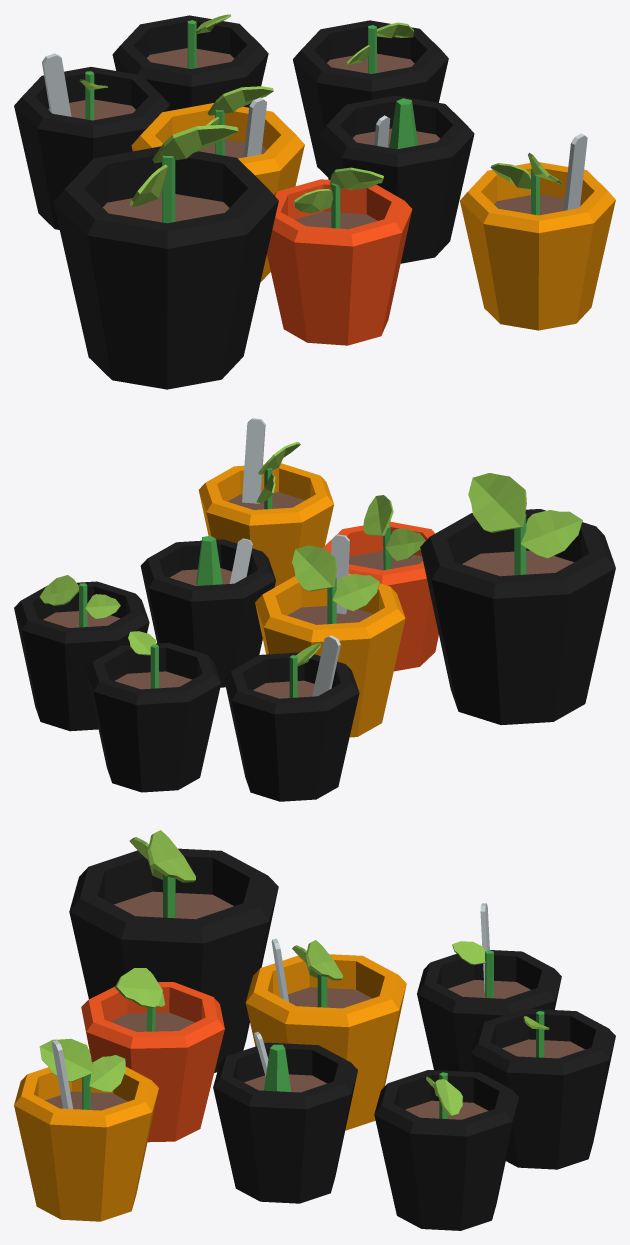
3 renders of one model, top to bottom at view 1: azimuth 30°, elevation 25°; view 2: azimuth 150°, elevation 25°; view 3: azimuth 270°, elevation 25°, orthographic. The views are drawn at different scales.
Parts seen in each view (by area): view 1: group1689936441; view 2: group1689936441; view 3: group1689936441.
Boxes of the visible parts, <box> form: group1689936441: <box>14,14,615,389</box>; group1689936441: <box>14,418,615,801</box>; group1689936441: <box>14,830,615,1230</box>.
Size of the model in its own units: 0.3492 by 0.1542 by 0.3735.
Materials: 1 (1 with a texture image).
